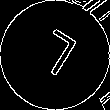L_SW: (29, 25, 81, 85)
